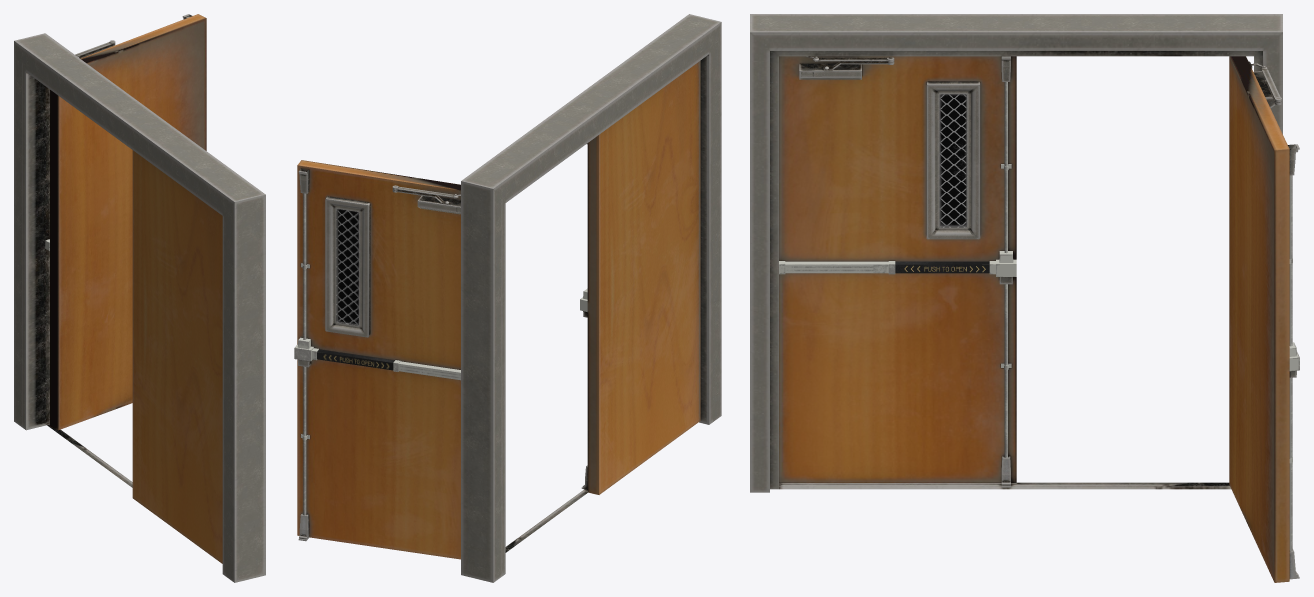
Rendered from Main-Exit.fbx.
3 renders of one model, left to right at view 1: azimuth 30°, elevation 25°; view 2: azimuth 150°, elevation 25°; view 3: azimuth 270°, elevation 25°, orthographic. The views are drawn at different scales.
Parts seen in each view (by area): view 1: Door Yellow.001; view 2: Door Yellow.001; view 3: Door Yellow.001.
Part boxes in pixels (x1=…): Door Yellow.001: x1=14, y1=14, x2=265, y2=582; Door Yellow.001: x1=294, y1=14, x2=721, y2=582; Door Yellow.001: x1=750, y1=14, x2=1299, y2=582.
Bounding box in the file's own units: 150 × 288 × 312.
Materials: 1 (1 with a texture image).
